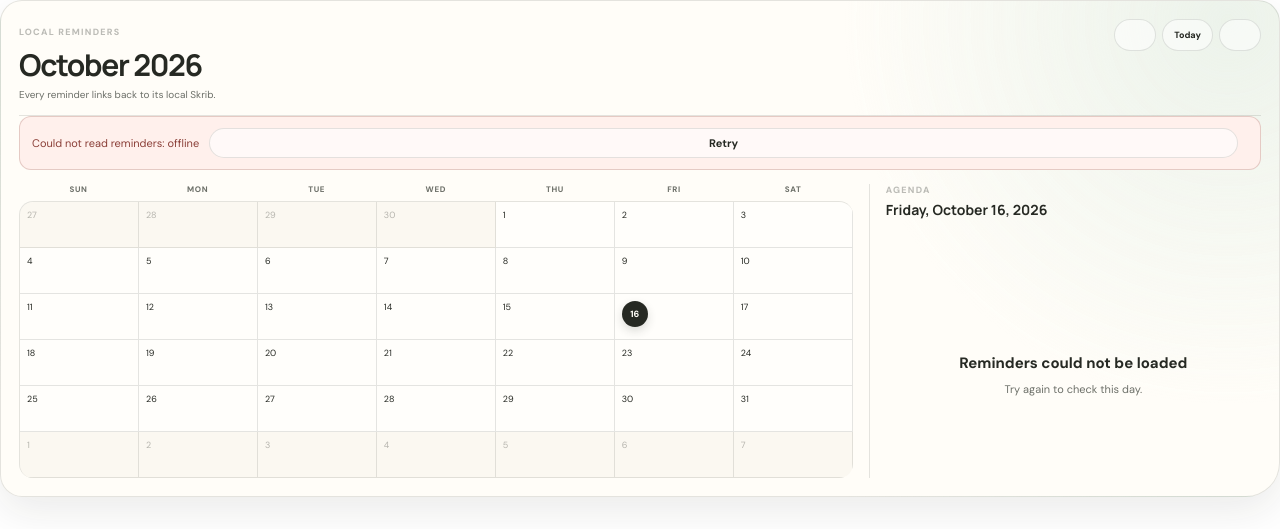
reminder calendar recovery and keyboard behavior › does not show an empty agenda after a failed read and retries successfully
Expected: the text "Nothing due" is not shown
Step 1. Click the button "Retry" → (724, 143), box [209, 128, 1238, 158]
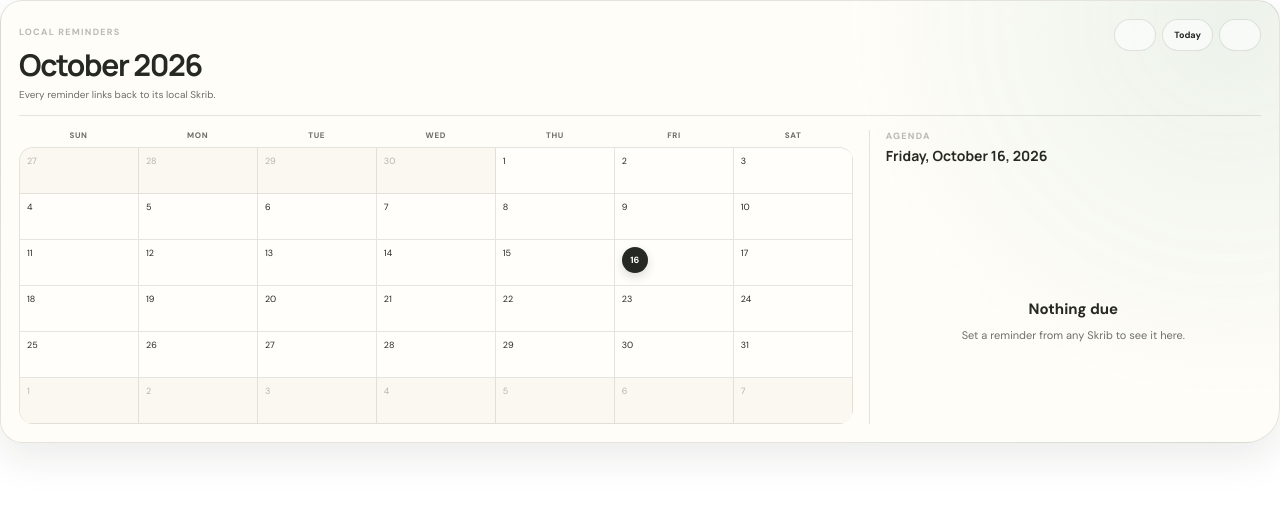
Expected: the text "Nothing due" is shown, [1029, 300, 1118, 320]
